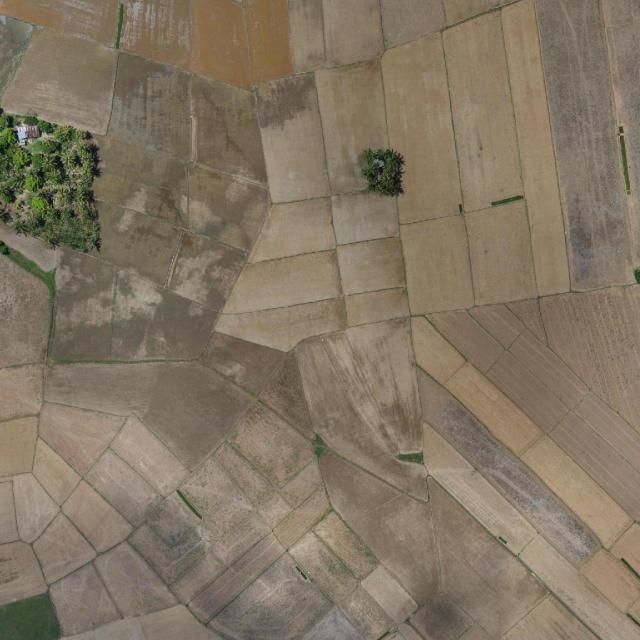agricultural_land: (425, 273, 640, 520), (0, 1, 520, 87), (397, 365, 601, 566), (292, 318, 434, 516), (123, 344, 254, 475), (520, 431, 635, 549), (26, 375, 127, 476), (443, 360, 544, 459), (299, 447, 401, 538), (225, 399, 319, 493), (90, 534, 178, 631), (105, 413, 193, 498), (198, 316, 286, 398), (83, 447, 165, 529), (251, 350, 315, 448), (55, 479, 134, 558), (20, 511, 97, 588), (43, 561, 120, 638), (0, 255, 52, 367), (45, 364, 159, 415), (393, 312, 467, 387), (16, 439, 84, 506), (178, 456, 240, 517), (509, 597, 594, 640), (12, 471, 62, 543), (144, 491, 202, 549), (0, 365, 44, 419), (0, 416, 38, 476), (508, 298, 548, 350), (0, 481, 19, 543)
greenland: (0, 109, 101, 251), (361, 149, 405, 196)
